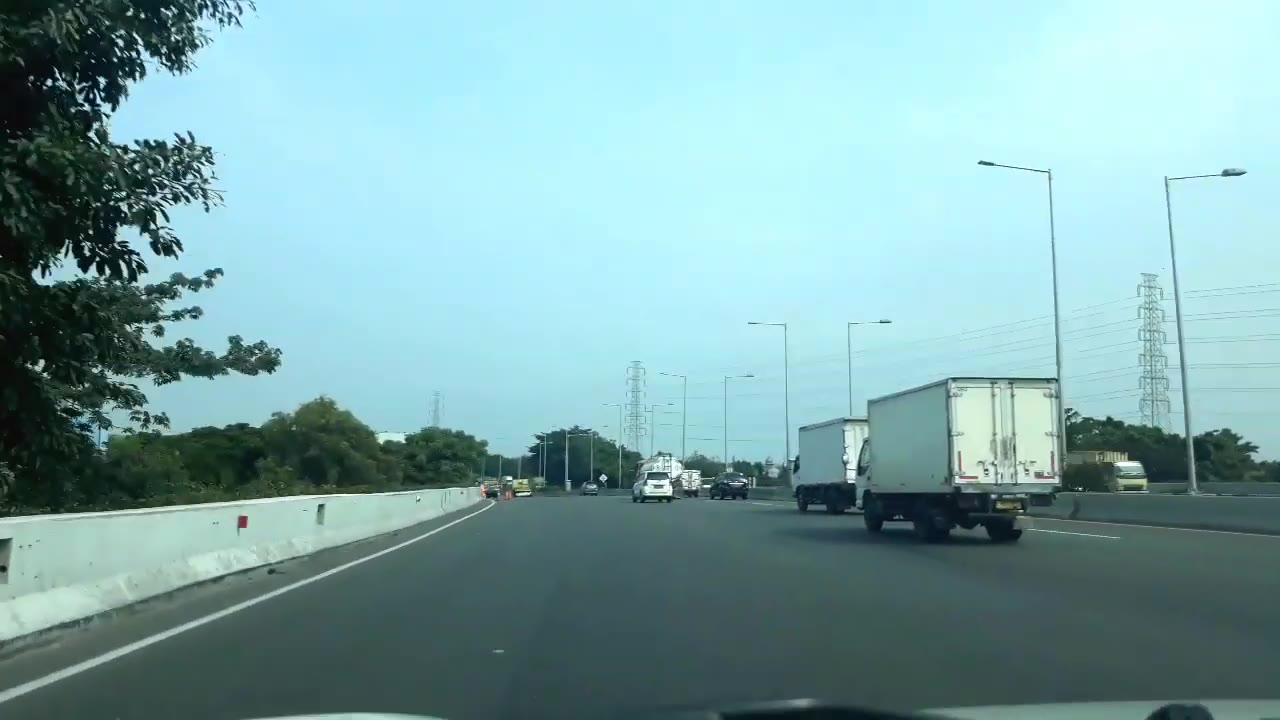plate_positive: (994, 499, 1023, 508), (654, 485, 663, 489)
